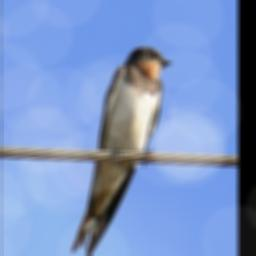Swallow: (71, 45, 174, 256)
